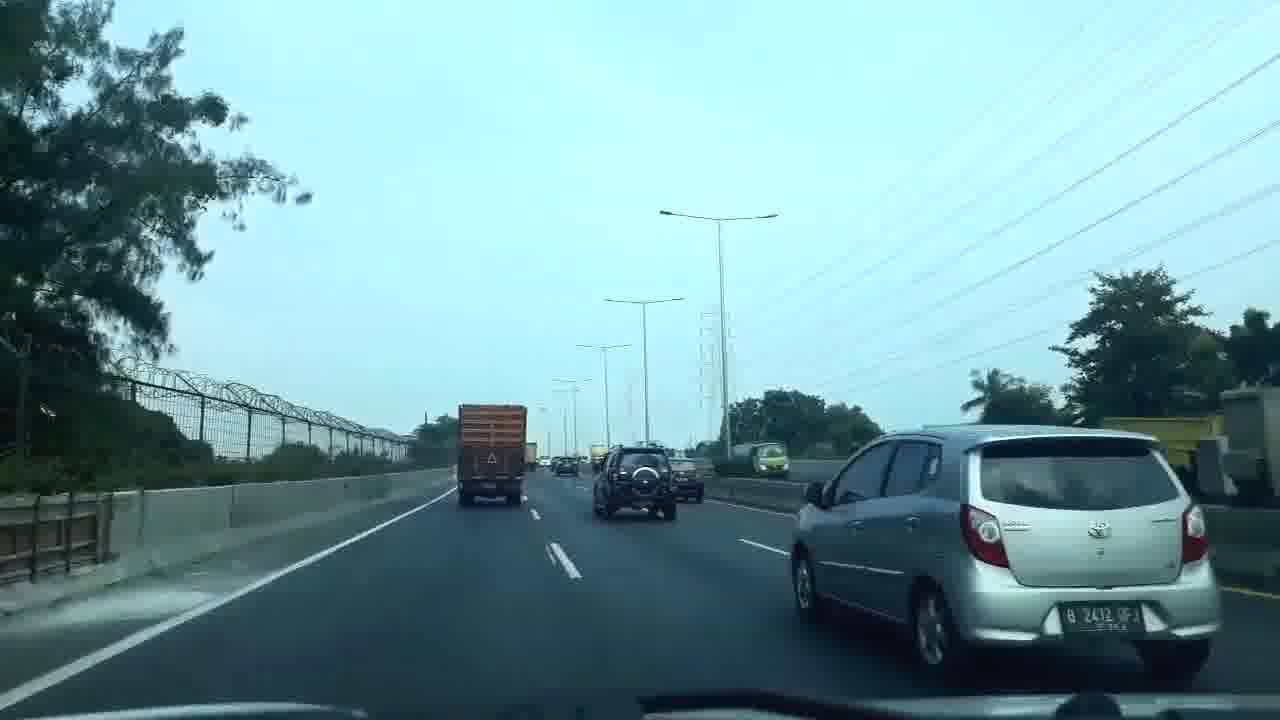plate_positive: (1058, 602, 1146, 633)
